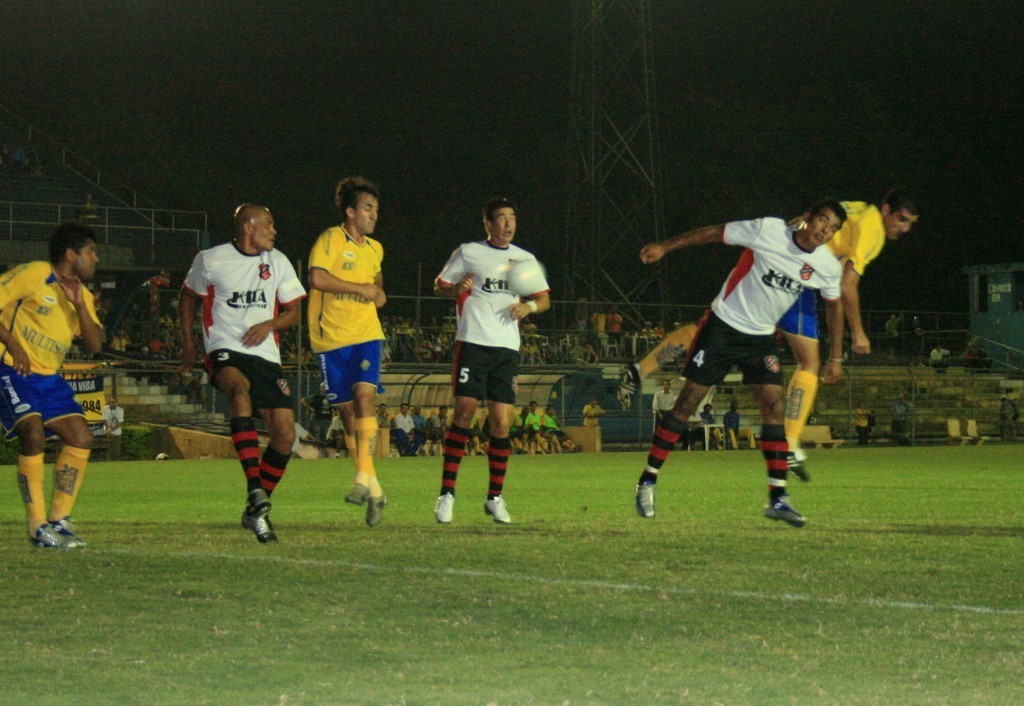Ball: (509, 260, 543, 298)
